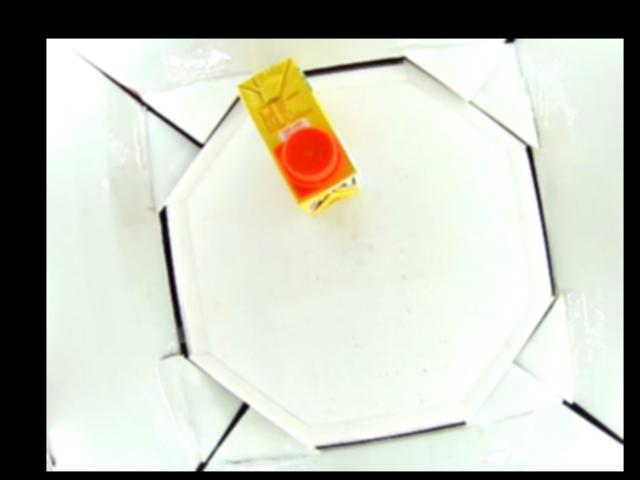Bottle: (236, 56, 362, 214)
